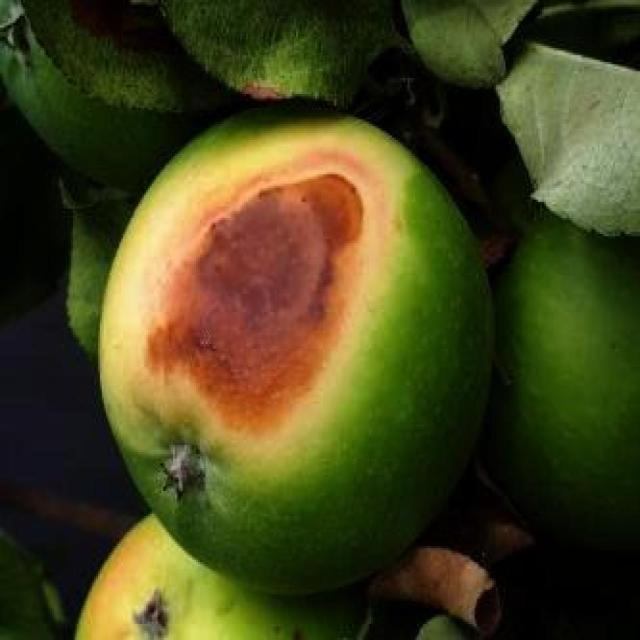Sunscald Fruit: (74, 98, 263, 292)
